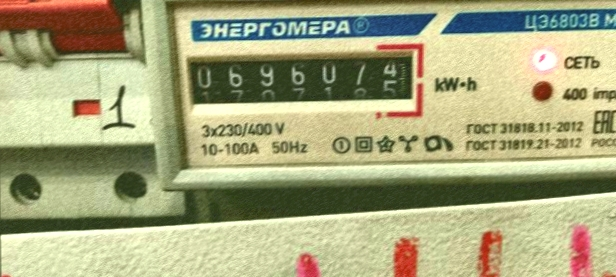0: (194, 62, 212, 87), (320, 57, 336, 84)
4: (382, 56, 396, 77)
5: (382, 78, 396, 97)
6: (225, 61, 243, 86), (289, 58, 305, 85)
7: (351, 58, 367, 84)
9: (257, 60, 274, 86)
screen: (180, 39, 427, 119)
